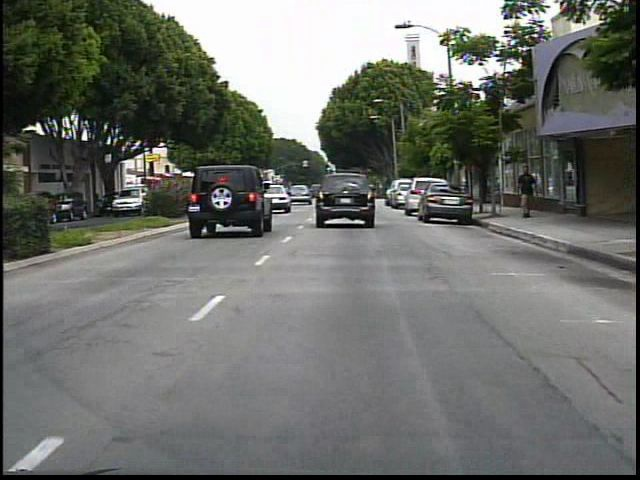person: (514, 164, 539, 223)
